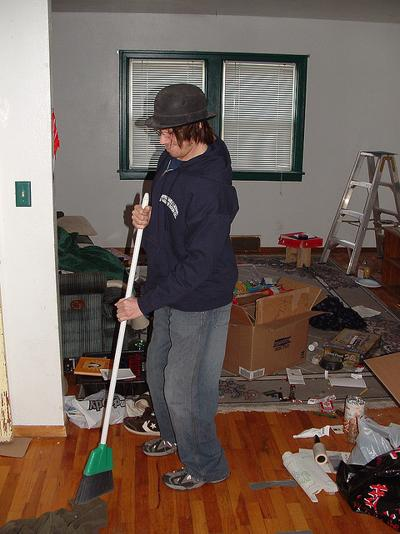person: (115, 84, 242, 491)
